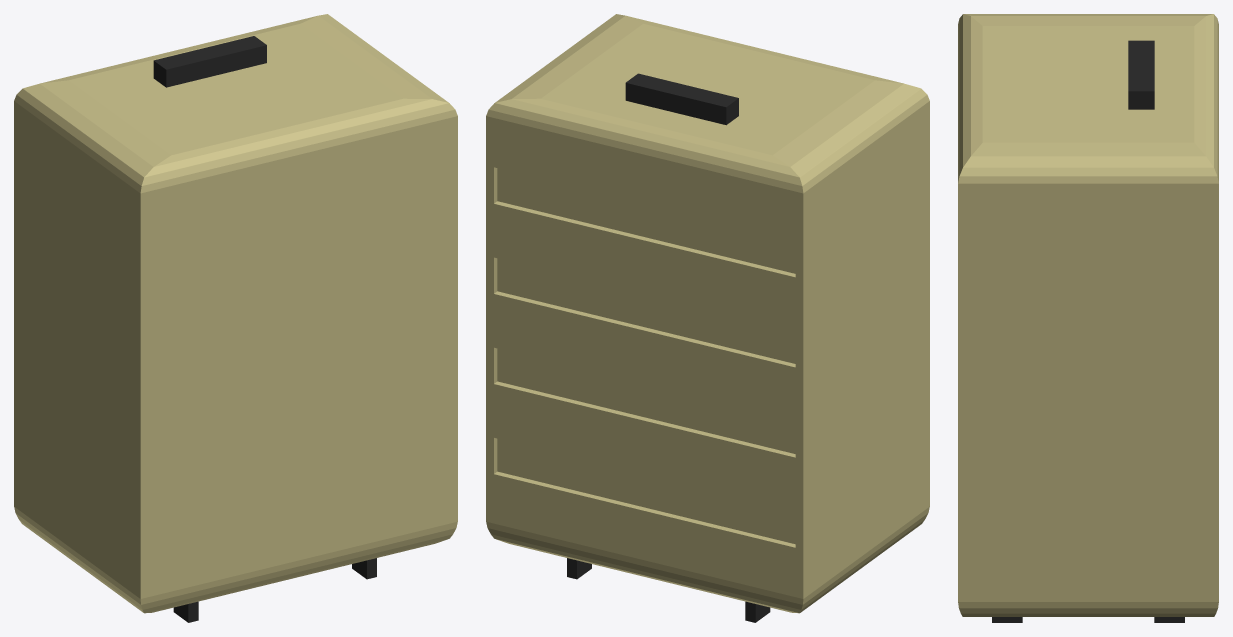
File: sm_suitcase01.fbx
The picture shows the model from 3 angles, left to right: view 1: azimuth 30°, elevation 25°; view 2: azimuth 150°, elevation 25°; view 3: azimuth 270°, elevation 25°; orthographic projection. The views are drawn at different scales.
Visible parts, largest first — view 1: Suitcase; view 2: Suitcase; view 3: Suitcase.
Part boxes in pixels (x1,y1,x2,y2): Suitcase: [14, 14, 457, 622]; Suitcase: [486, 14, 929, 622]; Suitcase: [958, 14, 1218, 622].
Bounding box in the file's own units: 0.5191 × 0.3583 × 0.7724.
1 material, 1 textured.
